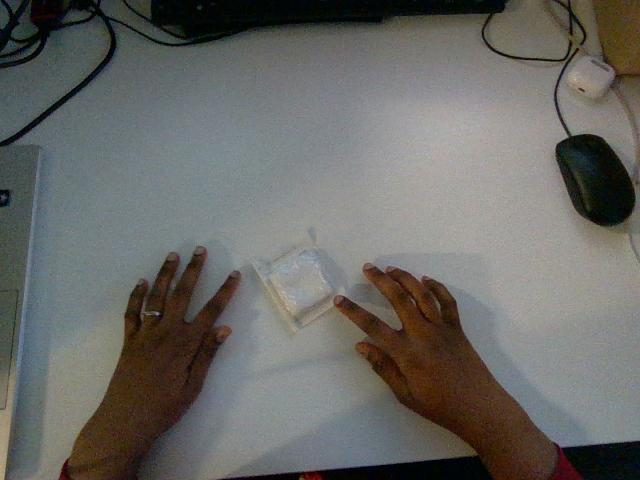gauze: (253, 238, 338, 331)
